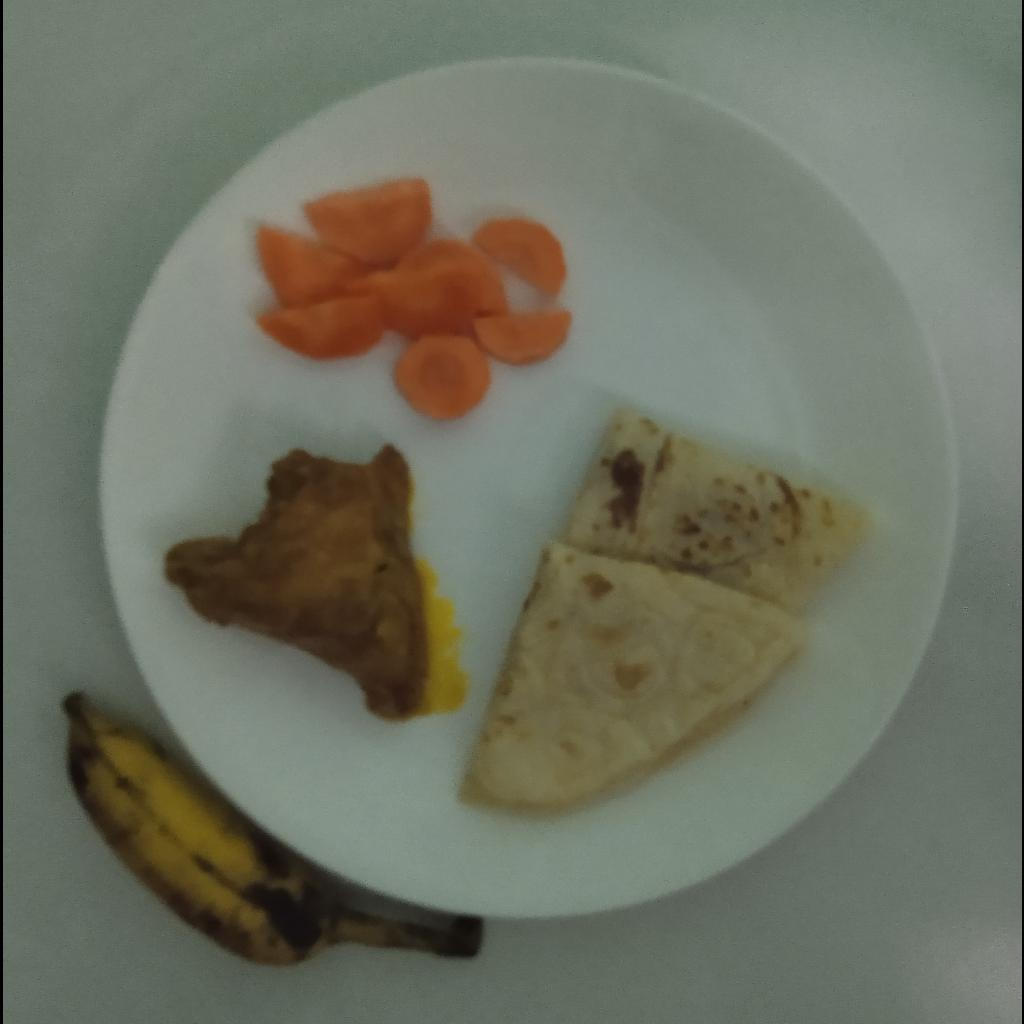banana: (55, 691, 435, 959)
carrot: (253, 174, 567, 416)
chicken: (162, 447, 432, 714)
ruti: (457, 401, 870, 803)
